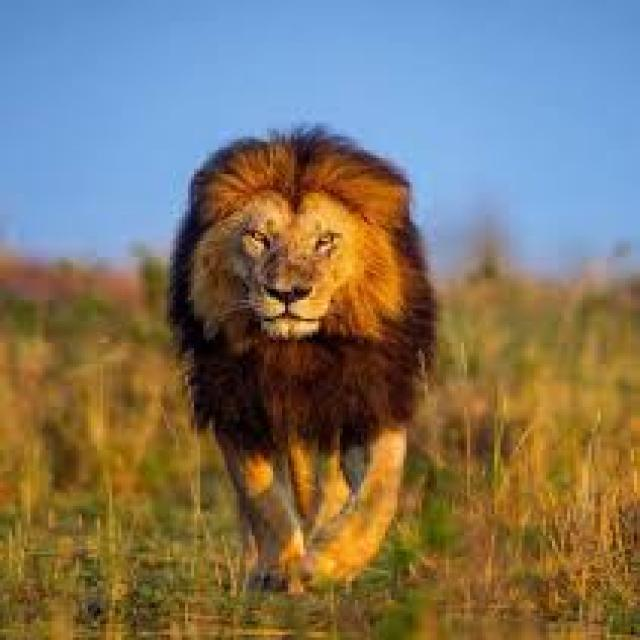Lion: (167, 135, 439, 596)
